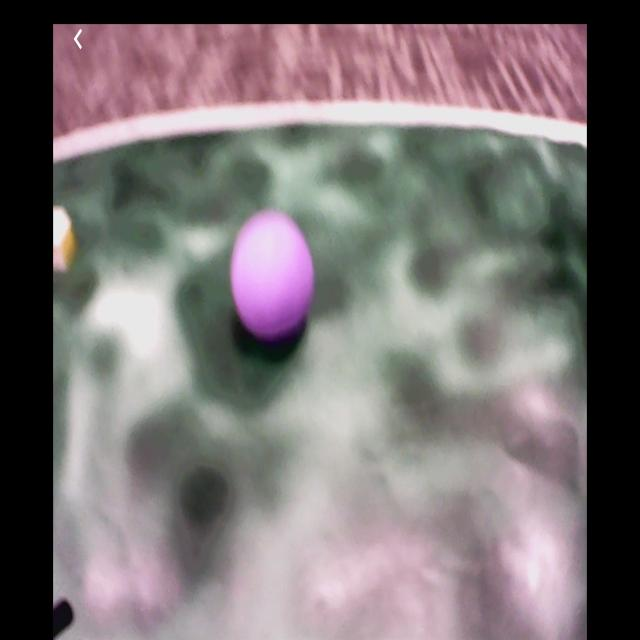ball: (233, 211, 316, 341)
